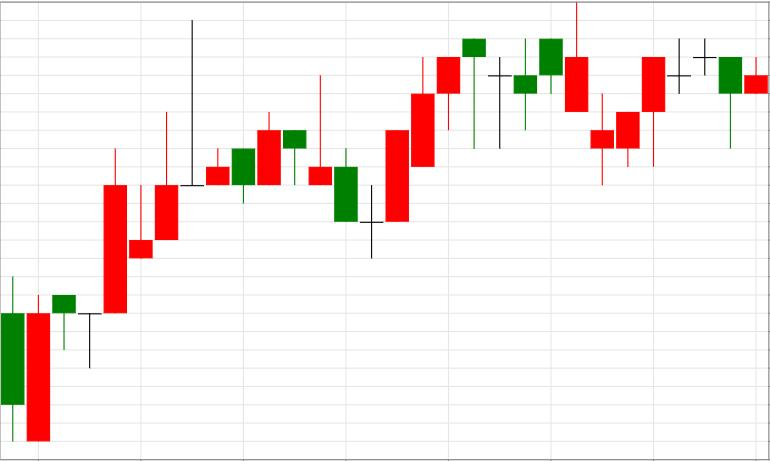hanging_man_fall: (386, 38, 486, 222)
morning_star_rise: (283, 74, 409, 260)
